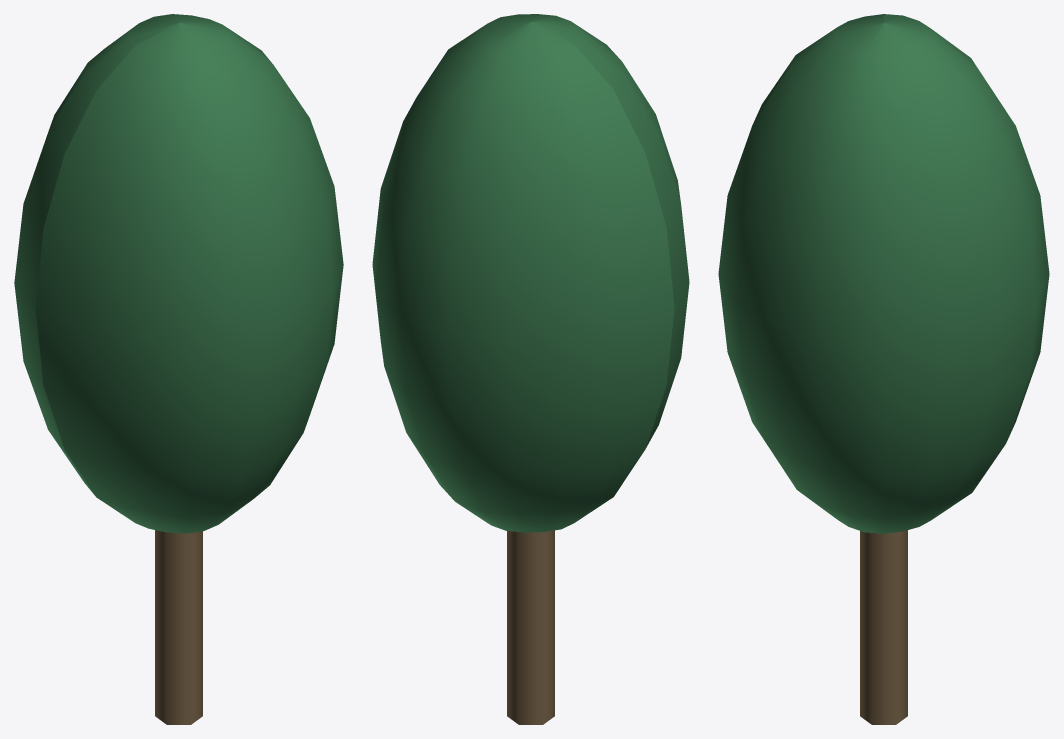
Rendered from tree-upright.glb.
The picture shows the model from 3 angles, left to right: view 1: azimuth 30°, elevation 25°; view 2: azimuth 150°, elevation 25°; view 3: azimuth 270°, elevation 25°; orthographic projection.
Parts seen in each view (by area): view 1: tree-upright-crown, tree-trunk; view 2: tree-upright-crown, tree-trunk; view 3: tree-upright-crown, tree-trunk.
Part boxes in pixels (x1,y1,x2,y2): tree-upright-crown: [14, 14, 343, 533]; tree-trunk: [155, 530, 202, 724]; tree-upright-crown: [372, 14, 689, 532]; tree-trunk: [507, 530, 554, 724]; tree-upright-crown: [718, 14, 1049, 533]; tree-trunk: [860, 530, 907, 724].
Bounding box in the file's own units: 0.8278 × 1.91 × 0.8278.
